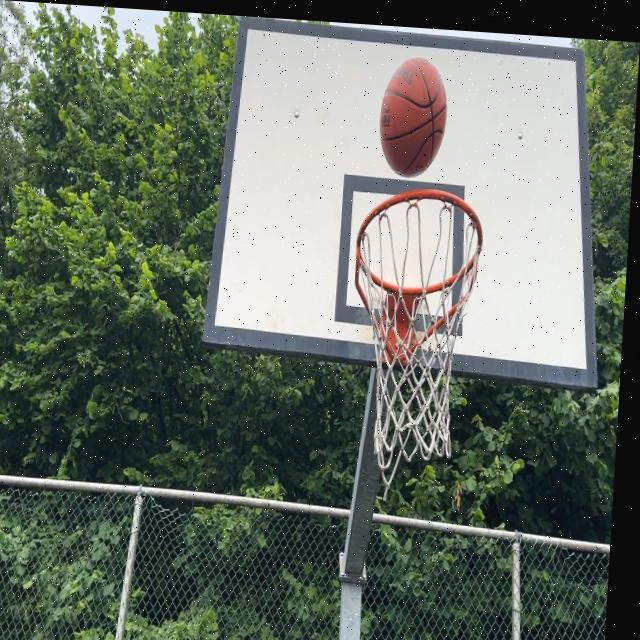Basketball: (376, 55, 450, 181)
